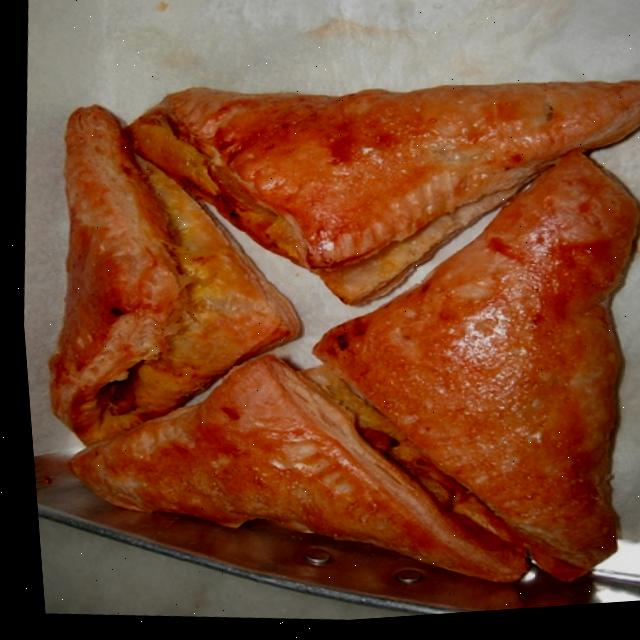炸货点心: (5, 23, 640, 635)
